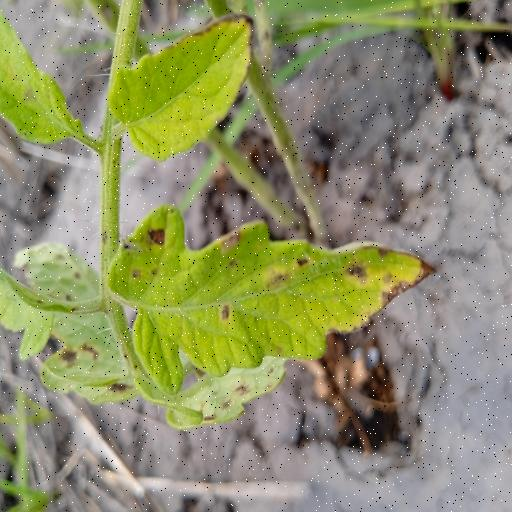Tomato_Brown_Spots: (105, 200, 438, 400), (104, 10, 259, 164)
